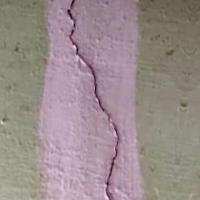crack: (58, 0, 125, 199)
